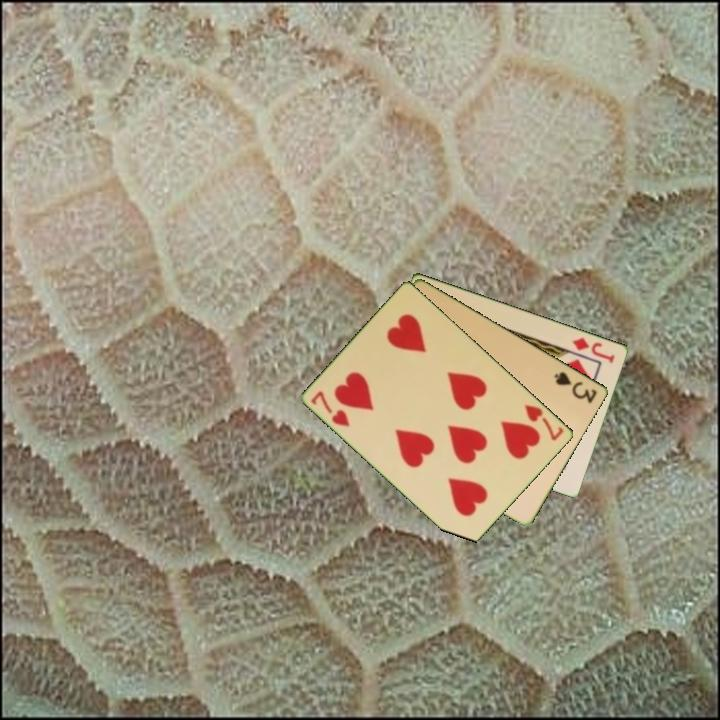3s: (551, 368, 600, 406)
7h: (521, 400, 567, 444), (308, 387, 353, 430)
Jd: (569, 334, 618, 366)
